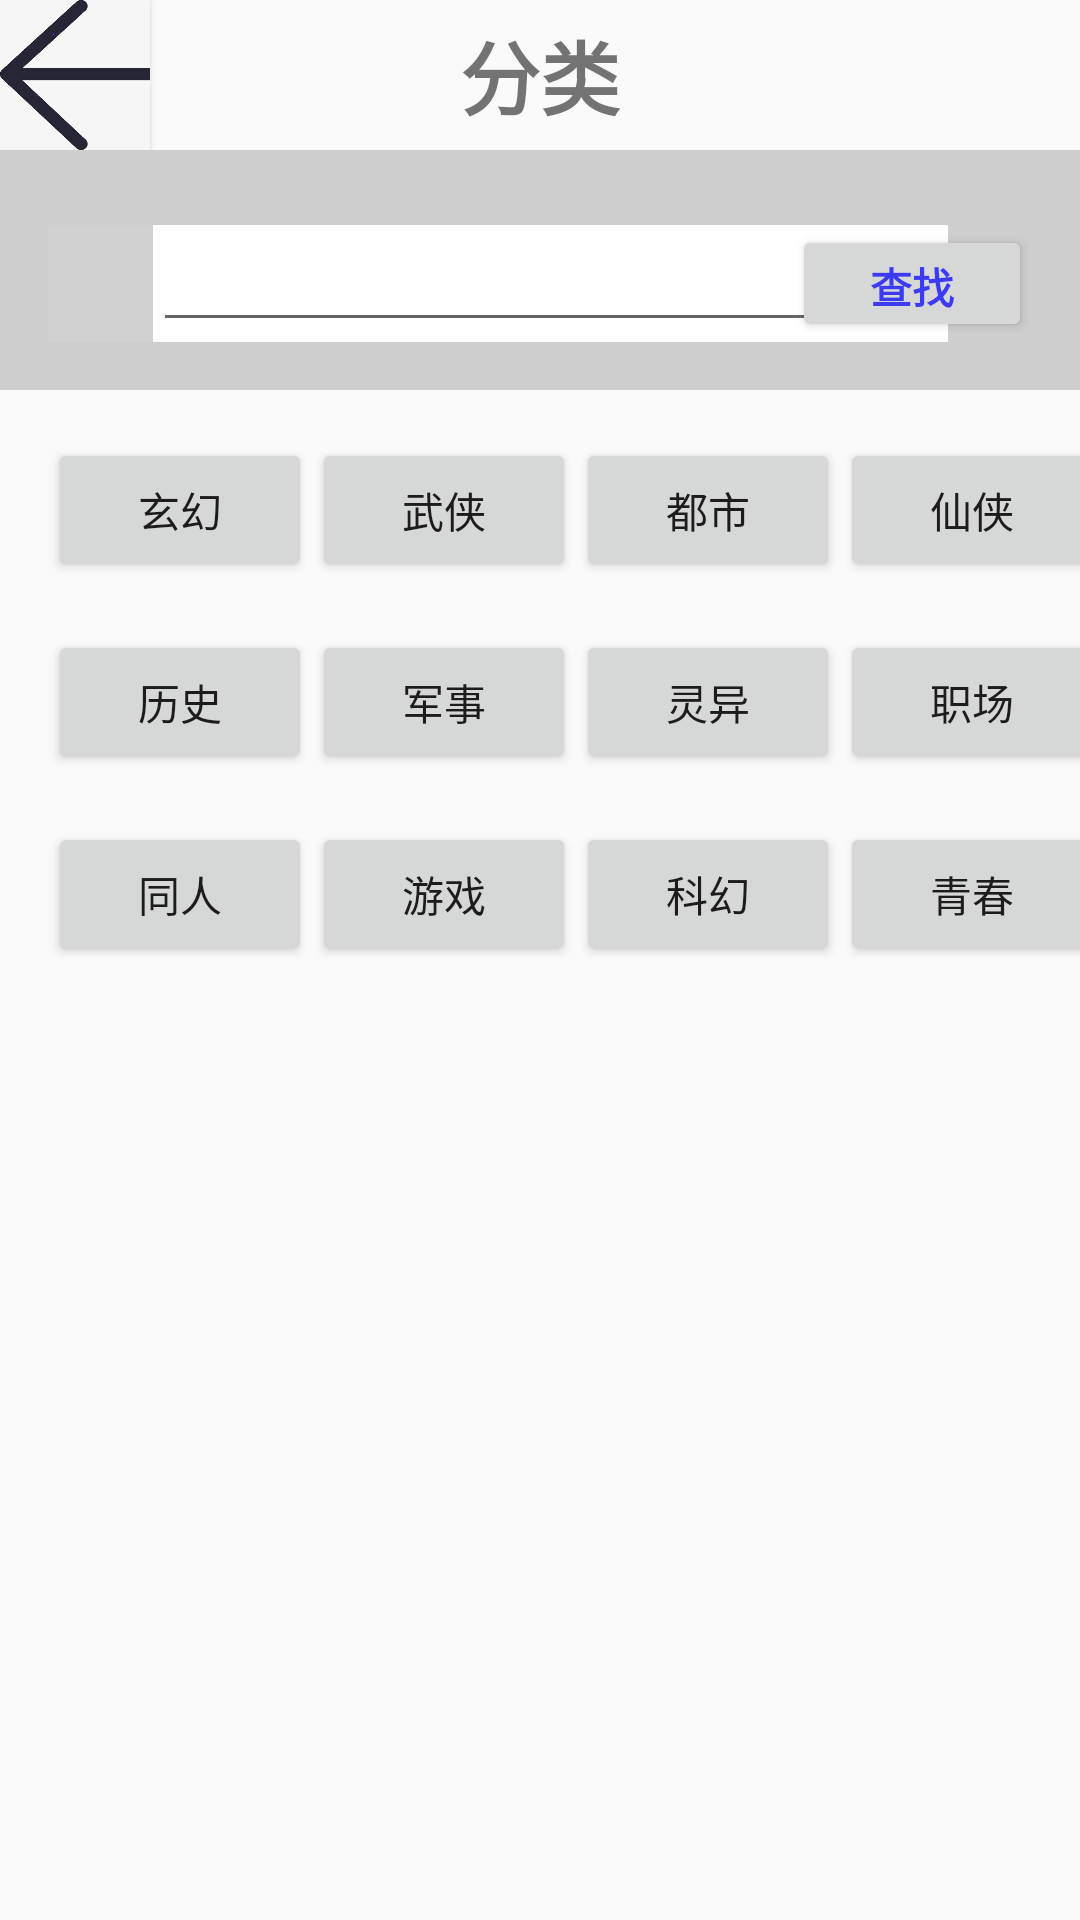

Screen size 1080w x 1920h. Icon name, then its center in pixels as [x,y]:
back: [75,75]
